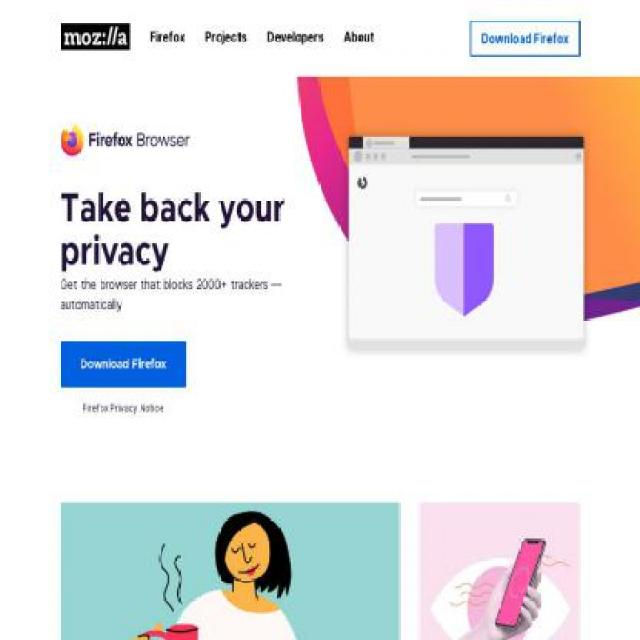button: (59, 501, 400, 640), (419, 501, 580, 640), (60, 340, 186, 388), (469, 20, 580, 57), (60, 23, 131, 51)
